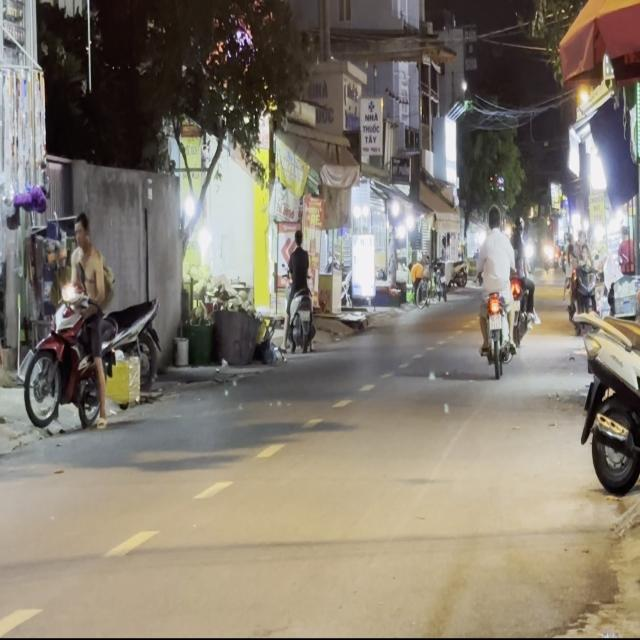licenseplate: (21, 207, 112, 437)
motorcyclist: (72, 210, 91, 250)
